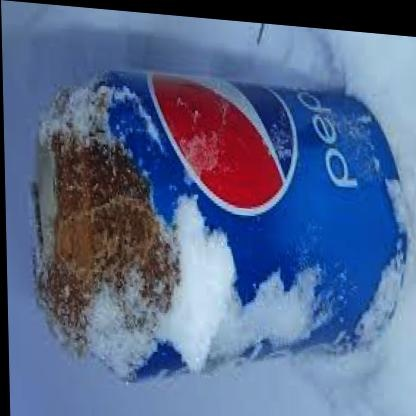trash: (35, 72, 404, 379)
